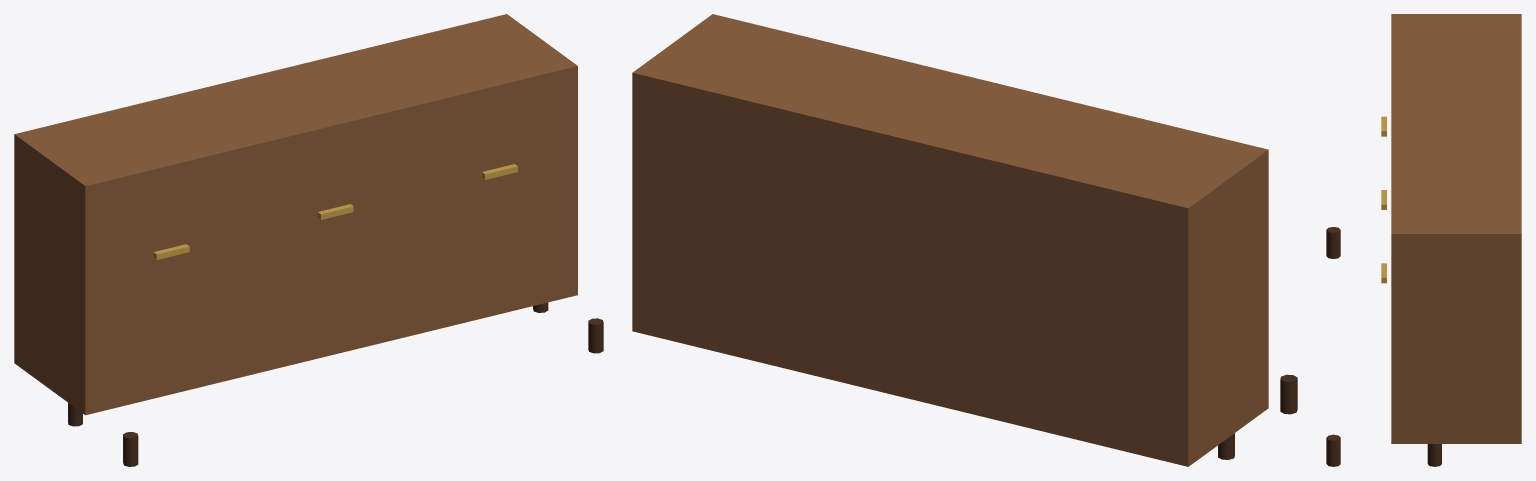
Rendered from sideboard.glb.
3 renders of one model, left to right at view 1: azimuth 30°, elevation 25°; view 2: azimuth 150°, elevation 25°; view 3: azimuth 270°, elevation 25°, orthographic. The views are drawn at different scales.
Parts seen in each view (by area): view 1: sideboard; view 2: sideboard; view 3: sideboard.
Boxes of the visible parts, bbox=[...] form: sideboard: bbox=[14, 14, 603, 466]; sideboard: bbox=[632, 14, 1297, 466]; sideboard: bbox=[1326, 14, 1521, 466].
Bounding box in the file's own units: 1.8 × 0.9 × 0.675.
